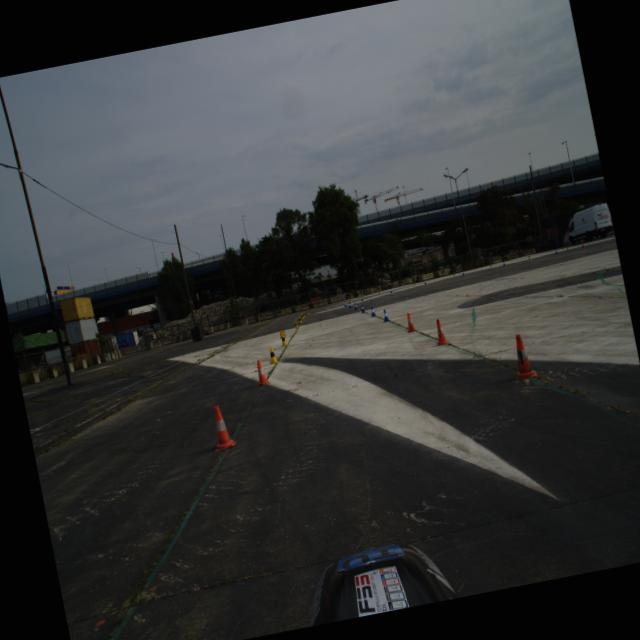blue_cone: (382, 308, 391, 322), (370, 306, 378, 316), (360, 304, 366, 313), (354, 302, 358, 310), (343, 301, 348, 307), (348, 302, 352, 308), (502, 261, 506, 266), (361, 296, 364, 301), (555, 249, 558, 254), (390, 288, 392, 293), (424, 279, 426, 284), (462, 271, 464, 275)
orange_cone: (206, 402, 238, 452), (508, 332, 538, 380), (252, 358, 271, 386), (432, 318, 449, 347), (404, 312, 416, 333), (580, 242, 586, 248)
yellow_cone: (267, 346, 279, 364), (278, 333, 288, 348), (294, 320, 300, 329), (280, 331, 286, 339), (298, 316, 303, 324), (302, 312, 306, 318), (300, 314, 304, 320), (307, 309, 311, 315), (452, 272, 456, 276), (566, 245, 569, 250), (349, 298, 352, 302), (378, 290, 381, 294), (413, 281, 416, 285), (489, 264, 492, 268), (326, 304, 328, 309), (528, 254, 530, 258)
